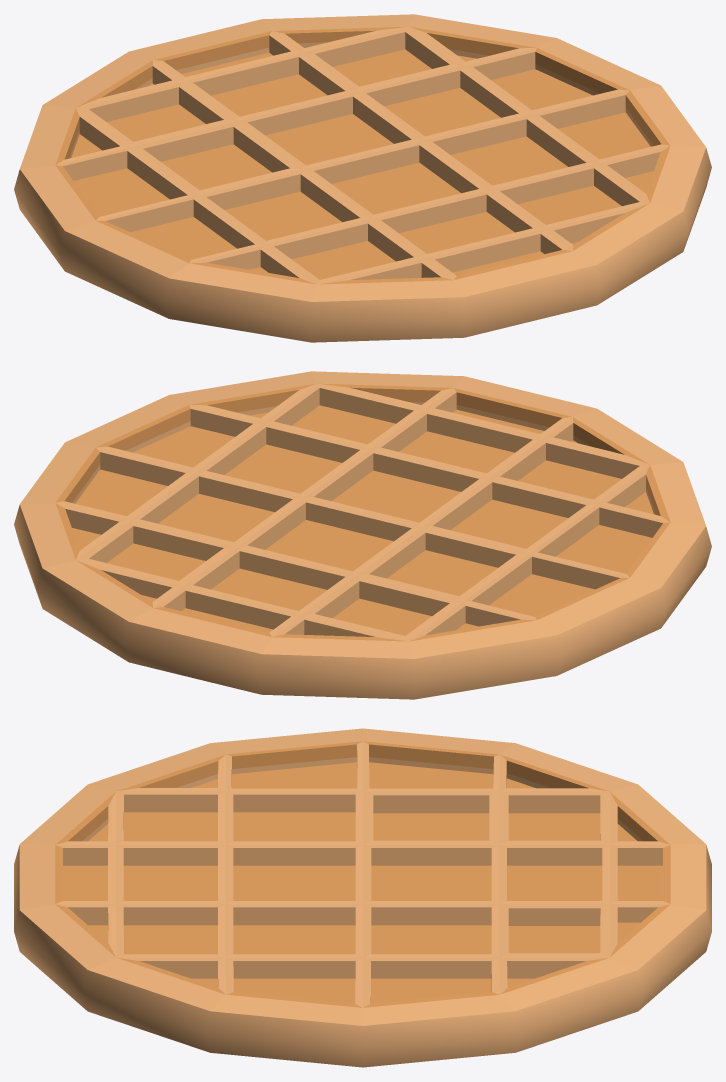
Rendered from f03_waffle.FBX.
3 views of the same model, one above another, from view 1: azimuth 30°, elevation 25°; view 2: azimuth 150°, elevation 25°; view 3: azimuth 270°, elevation 25° (orthographic). The views are drawn at different scales.
Parts seen in each view (by area): view 1: Cylinder001; view 2: Cylinder001; view 3: Cylinder001.
Boxes of the visible parts, x1,y1,x2,y2 form: Cylinder001: (14,14,711,342); Cylinder001: (14,371,711,699); Cylinder001: (14,728,711,1067).
Bounding box in the file's own units: 127 × 8.69 × 124.
